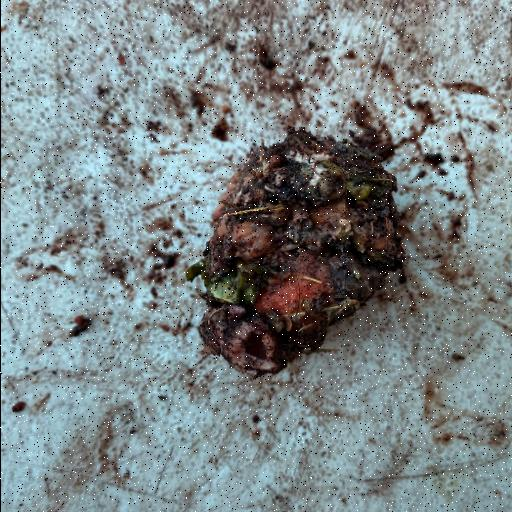Waste: (192, 124, 408, 379)
